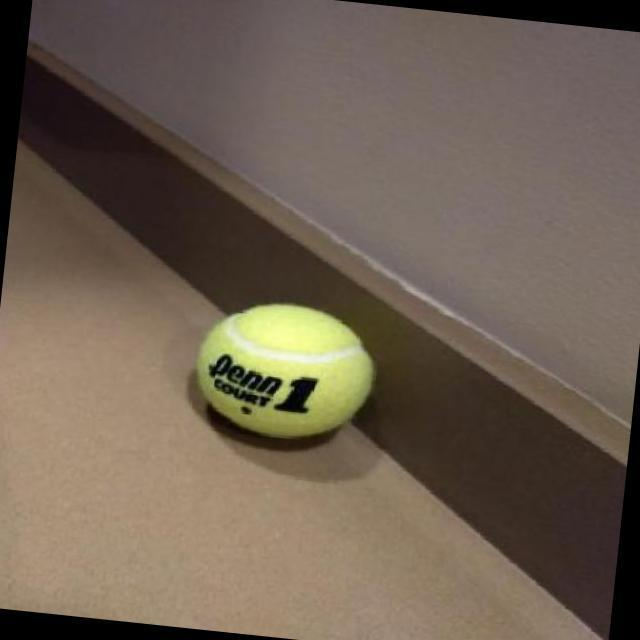-: (152, 275, 389, 470)
